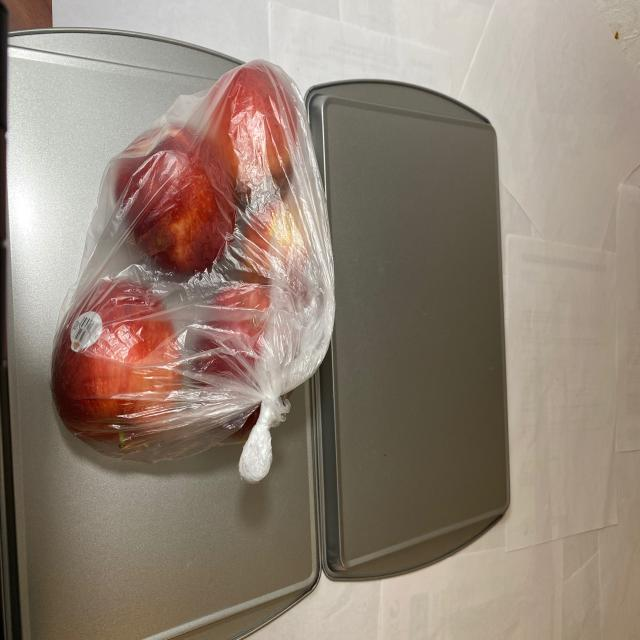apple: (48, 61, 317, 462)
